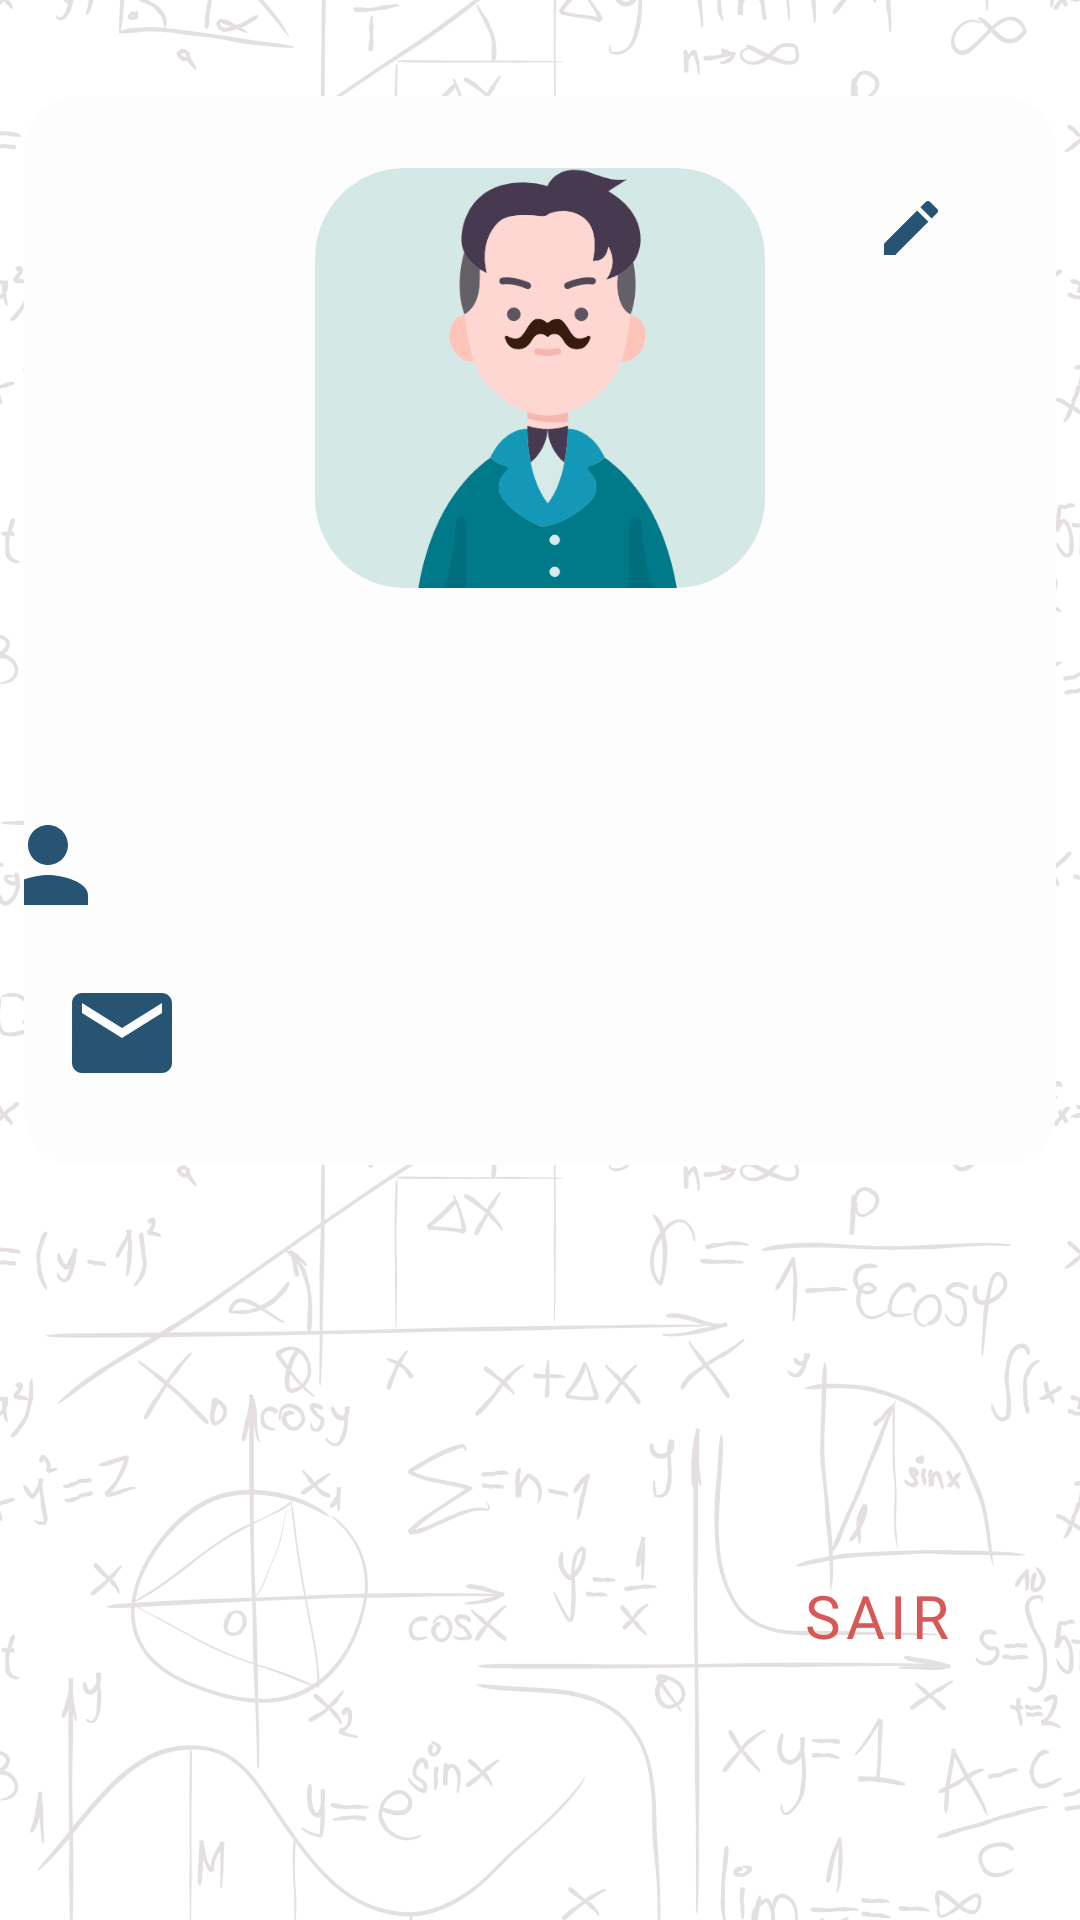

Named icons in this screenshot (1080w x 1920h) and their bounding boxes, (x1, y1, x2, y2):
edit: (884, 201, 938, 255)
email: (72, 993, 172, 1073)
